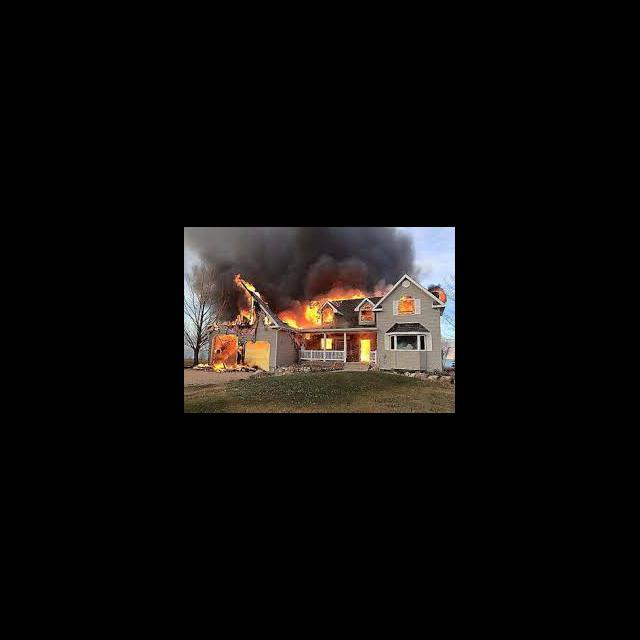Fire: (235, 273, 262, 301), (328, 288, 367, 299), (278, 311, 300, 330), (304, 302, 321, 325), (398, 296, 417, 315), (359, 338, 372, 362), (360, 302, 374, 322), (322, 307, 334, 325), (238, 308, 254, 320), (212, 361, 226, 372), (322, 338, 334, 350), (437, 290, 447, 302)
Smoke: (186, 227, 365, 272), (368, 227, 422, 278), (188, 274, 234, 318), (264, 272, 301, 308), (326, 272, 366, 288), (302, 272, 324, 296), (372, 278, 392, 290)
